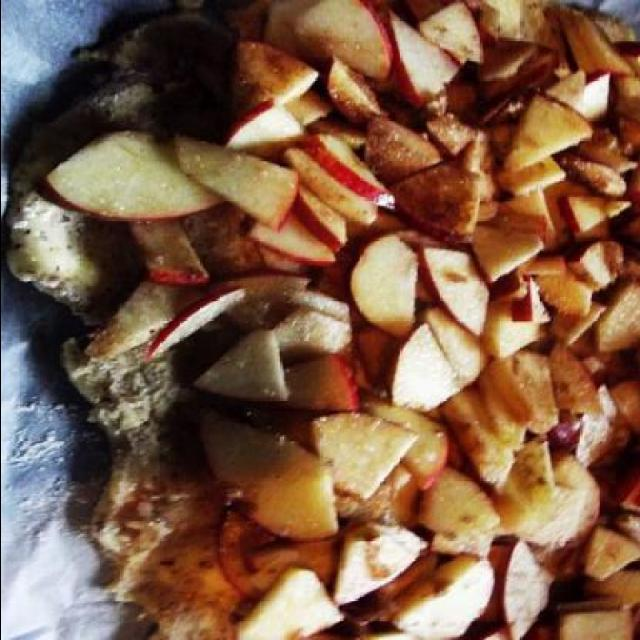Apple pie: (32, 0, 640, 640), (294, 412, 432, 503)
